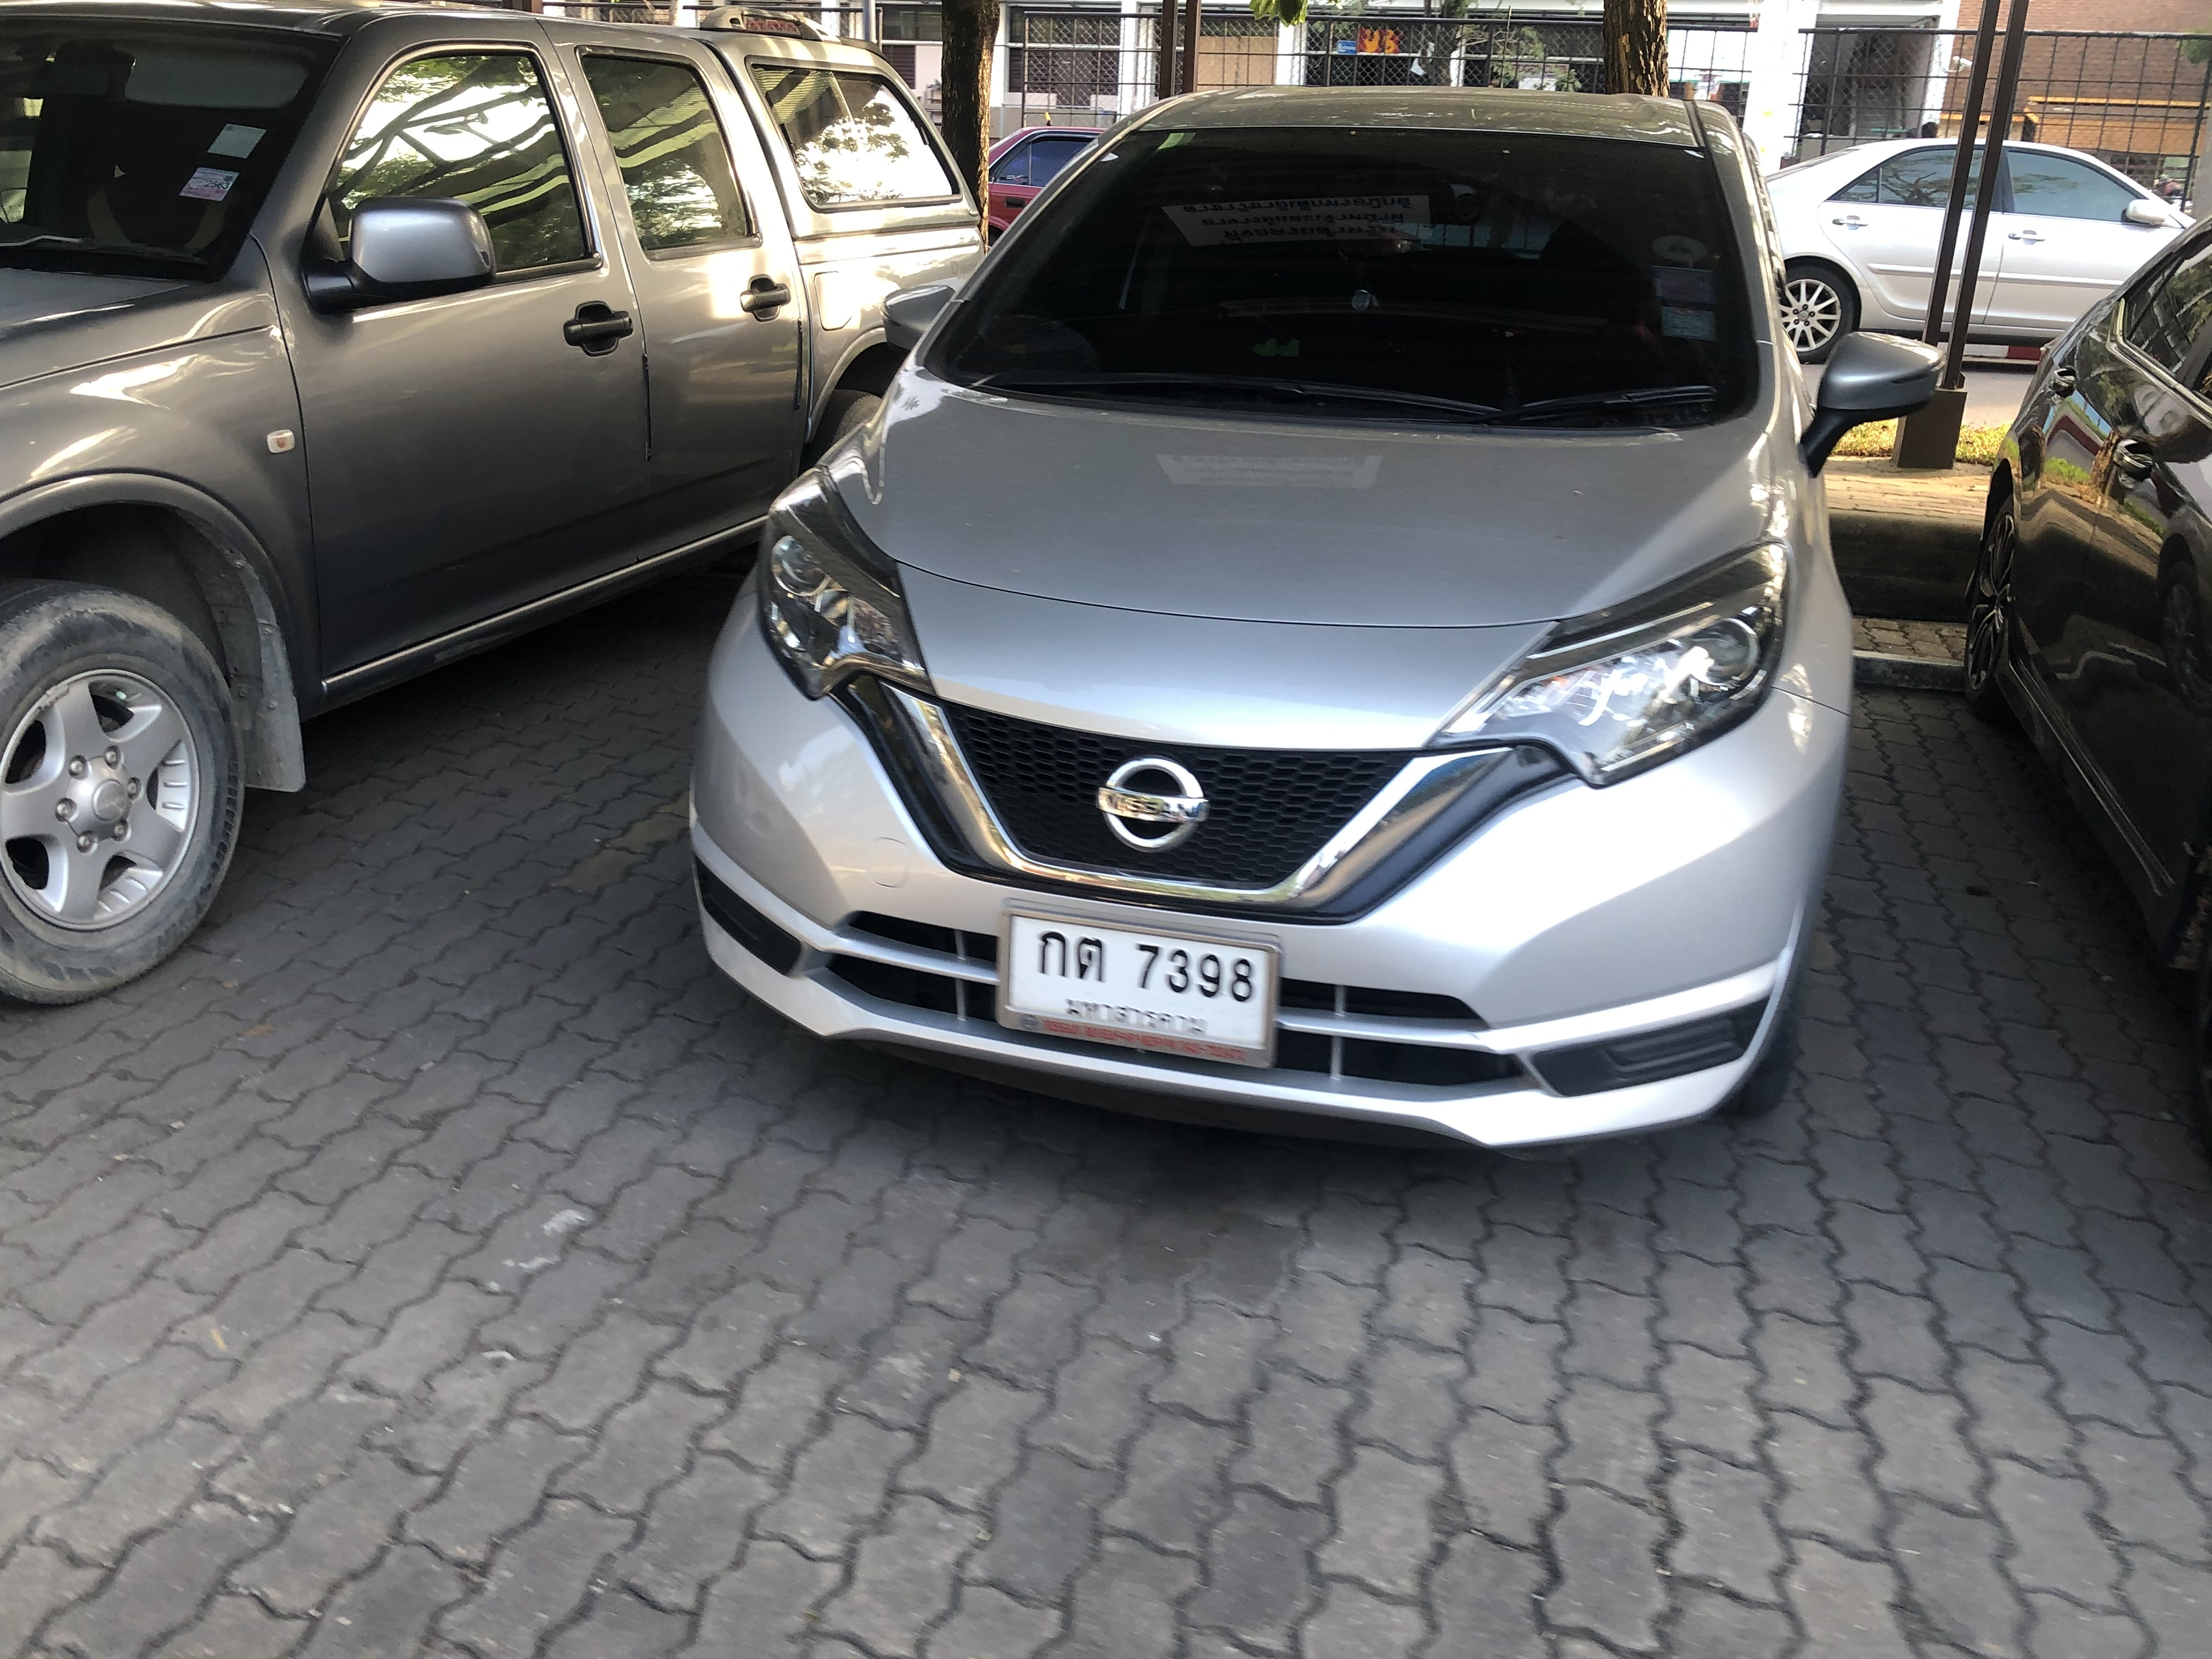in: (1005, 913, 1270, 1049)
out: (995, 894, 1285, 1072)
